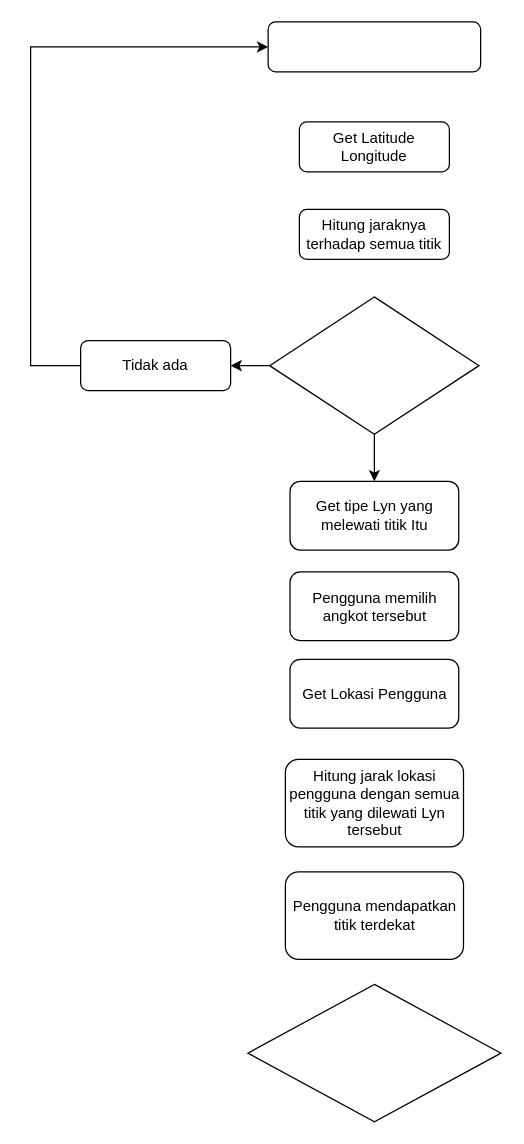
Image size: 524x1144. Some labels were removed from this diagram. The shapes that lost their labels are listed below. From the top down, each one's box as (x1, y1, x2, y2) in pixels, then its label:
(267, 21, 481, 72): Search tujuan, By Name atau Pin point
(268, 296, 479, 434): Cari titik terdekat kurang dari Batas (misal 1Km) ?
(247, 983, 501, 1122): Pengguna memesan Titik keberangkatan tersebut ?
